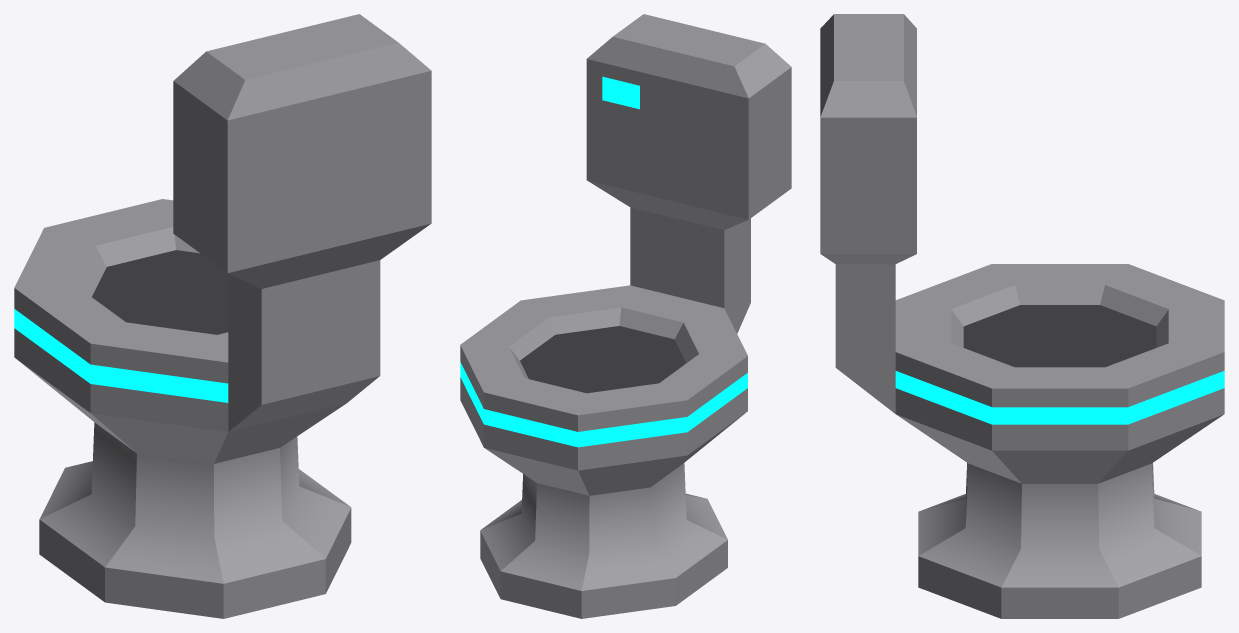
File: SM_Prop_Toilet_01.fbx
The picture shows the model from 3 angles, left to right: view 1: azimuth 30°, elevation 25°; view 2: azimuth 150°, elevation 25°; view 3: azimuth 270°, elevation 25°; orthographic projection. The views are drawn at different scales.
Parts seen in each view (by area): view 1: SM_Prop_Toilet_01_LOD0; view 2: SM_Prop_Toilet_01_LOD0; view 3: SM_Prop_Toilet_01_LOD0.
Boxes of the visible parts, box(x1,y1,x2,y2) form: SM_Prop_Toilet_01_LOD0: box(14, 14, 431, 618); SM_Prop_Toilet_01_LOD0: box(460, 14, 791, 618); SM_Prop_Toilet_01_LOD0: box(820, 14, 1224, 618).
Bounding box in the file's own units: 82.32 × 60.08 × 116.
1 material, 1 textured.
